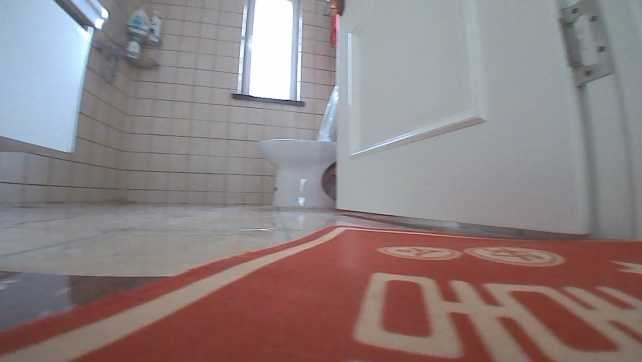blanket: (0, 222, 641, 362)
toilet: (258, 86, 339, 210)
